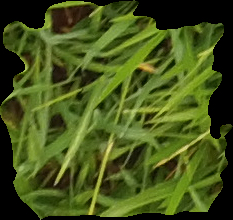grass: (1, 1, 232, 219)
